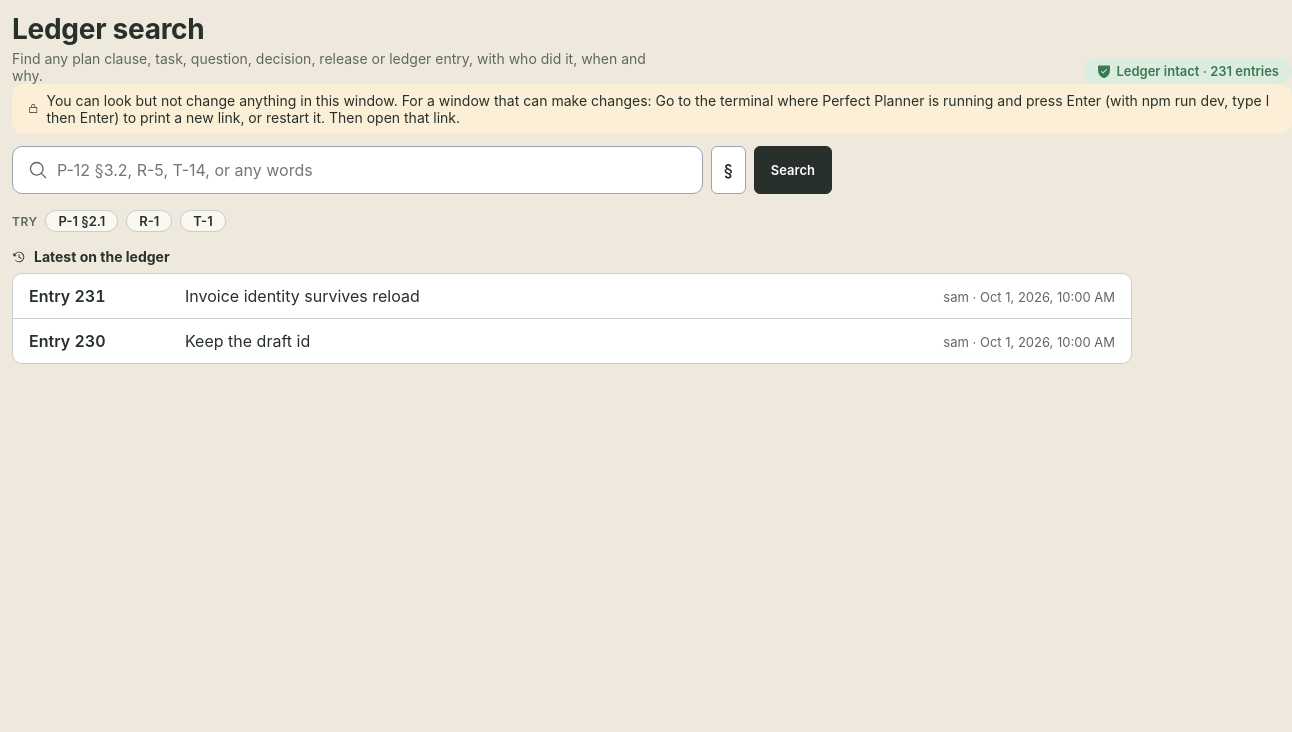
Ledger search screen › a release shows its range and entries
Step 1. Click the button named "Look up R-1" → (149, 221), box [126,210,172,232]
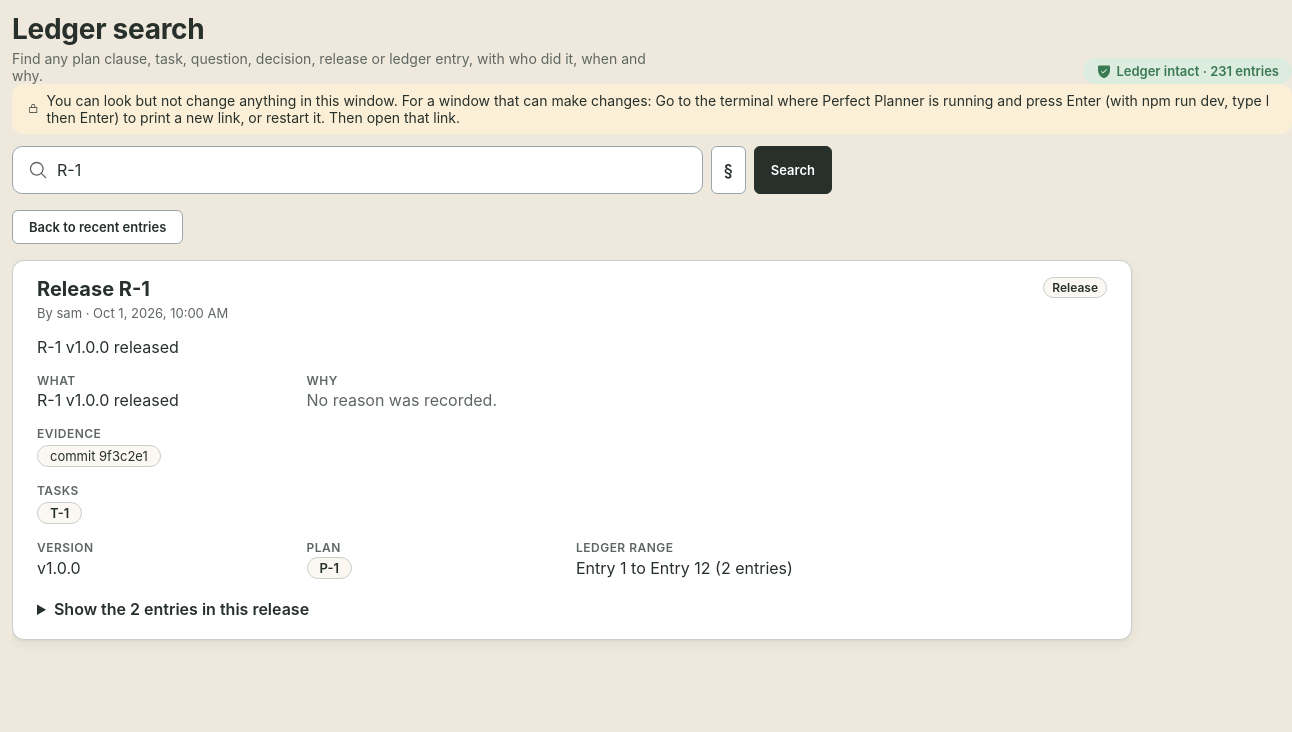
Result: the text "Entry 1 to Entry 12 (2 entries)" is shown at [576,558,793,578]
Result: the text "v1.0.0" is shown at [37,558,81,578]
Result: the heading "Show the 2 entries in this release" is shown at [54,599,309,619]
